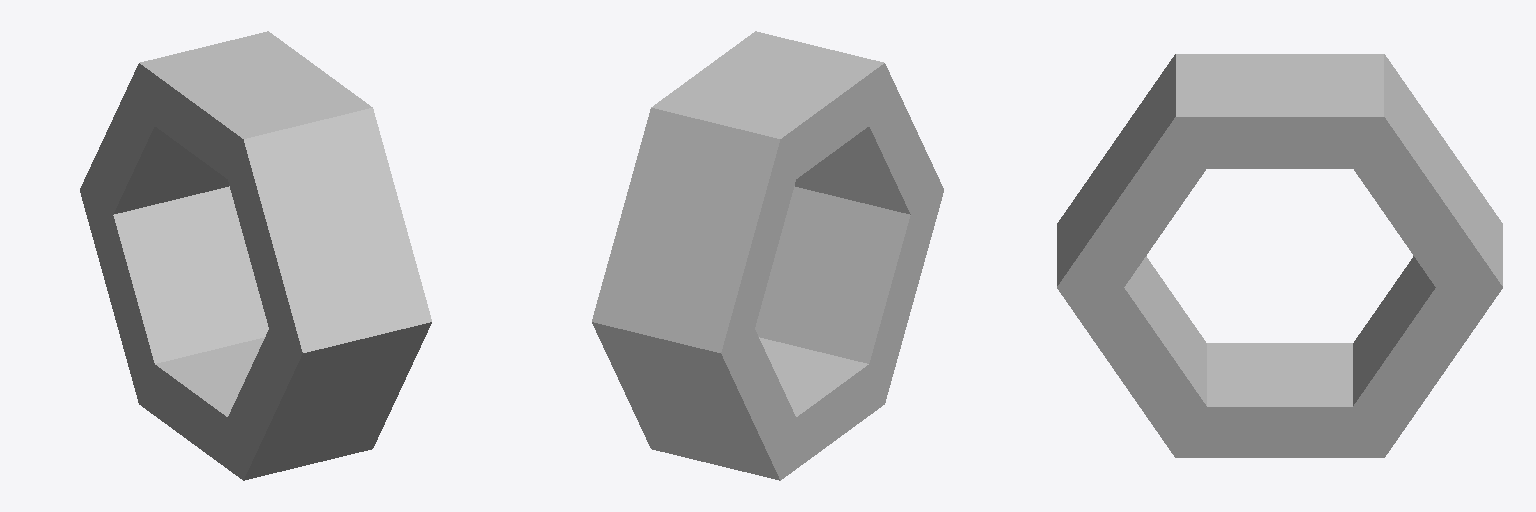
File: hexagon holo.obj
The picture shows the model from 3 angles: view 1: azimuth 30°, elevation 25°; view 2: azimuth 150°, elevation 25°; view 3: azimuth 270°, elevation 25°; orthographic projection.
Parts seen in each view (by area): view 1: Cube.002_Cube.003; view 2: Cube.002_Cube.003; view 3: Cube.002_Cube.003.
Part boxes in pixels (x1,y1,x2,y2): Cube.002_Cube.003: (80, 31, 431, 480); Cube.002_Cube.003: (592, 31, 943, 480); Cube.002_Cube.003: (1057, 54, 1502, 457).
Size of the model in its own units: 0.67 by 1.69 by 2.